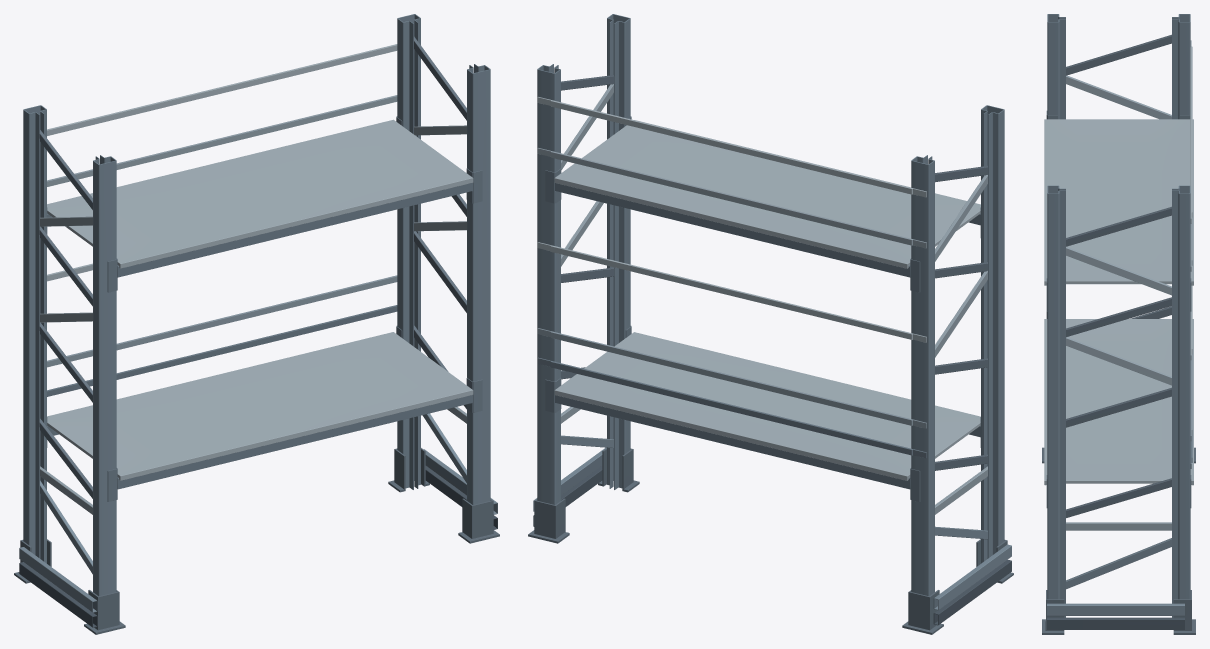
Rendered from SM_ShelfEmptyx1_White_B.fbx.
The picture shows the model from 3 angles, left to right: view 1: azimuth 30°, elevation 25°; view 2: azimuth 150°, elevation 25°; view 3: azimuth 270°, elevation 25°; orthographic projection. The views are drawn at different scales.
Parts seen in each view (by area): view 1: SM_ShelfEmptyx1_White_B; view 2: SM_ShelfEmptyx1_White_B; view 3: SM_ShelfEmptyx1_White_B.
Boxes of the visible parts, x1,y1,x2,y2 form: SM_ShelfEmptyx1_White_B: (14, 14, 499, 634); SM_ShelfEmptyx1_White_B: (528, 14, 1013, 634); SM_ShelfEmptyx1_White_B: (1042, 14, 1195, 634).
Size of the model in its own units: 336 by 370 by 118.
